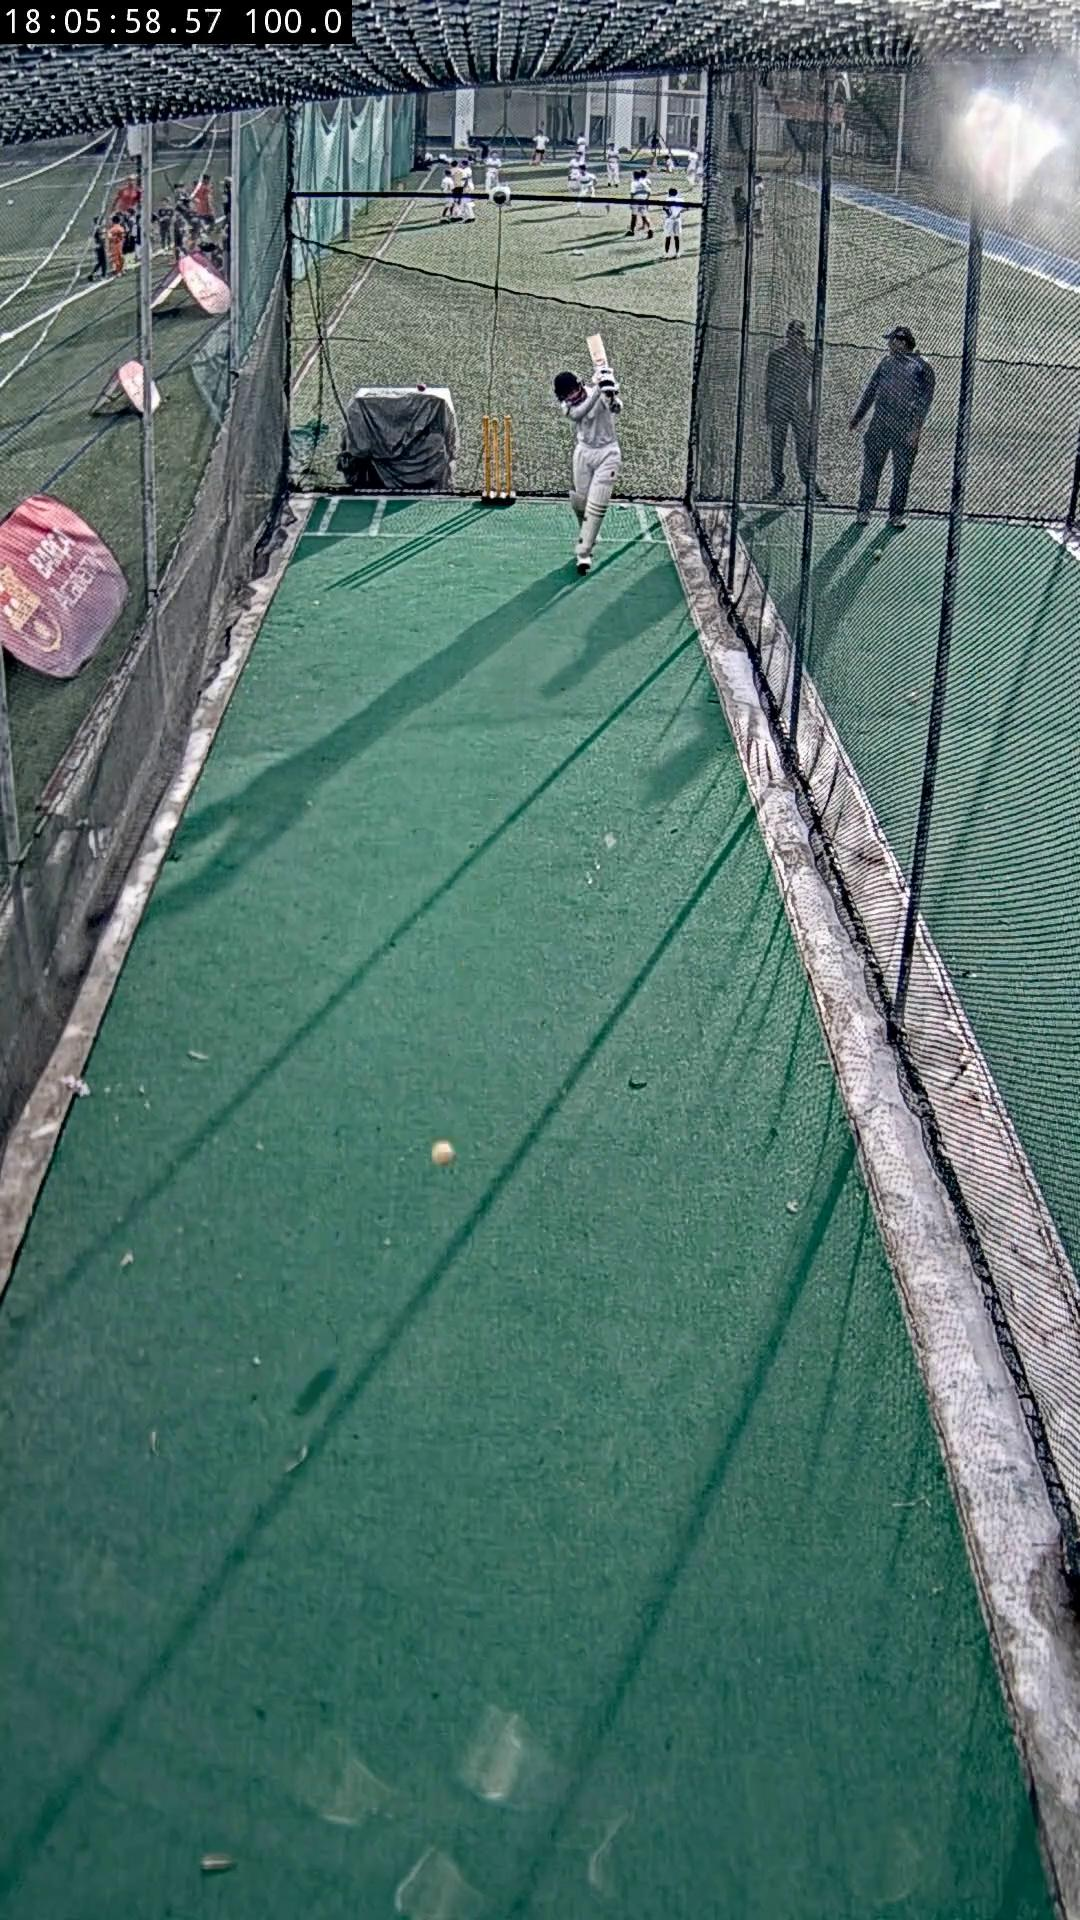ball: (431, 1139, 454, 1166)
bat: (585, 334, 608, 365)
gloves: (592, 364, 618, 394)
helmet: (555, 372, 582, 401)
pads: (578, 480, 612, 556), (570, 492, 585, 521)
stumps: (480, 417, 517, 506)
